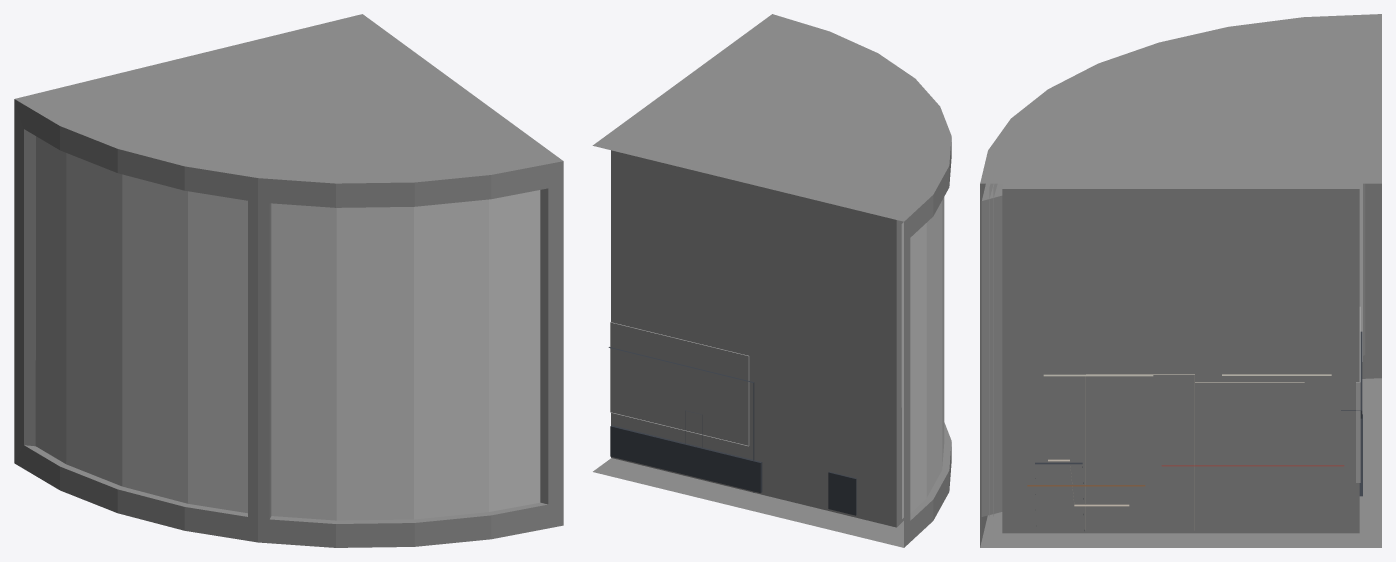
Rendered from Wall_11_Fake_Interior_Corner_Round.FBX.
The picture shows the model from 3 angles, left to right: view 1: azimuth 30°, elevation 25°; view 2: azimuth 150°, elevation 25°; view 3: azimuth 270°, elevation 25°; orthographic projection. The views are drawn at different scales.
Parts seen in each view (by area): view 1: Wall_11_Fake_Interior_Corner_Round; view 2: Wall_11_Fake_Interior_Corner_Round, Wall_11_Fake_Interior_B, Wall_11_Fake_Interior_C, Wall_11_Fake_Interior_A; view 3: Wall_11_Fake_Interior_Corner_Round, Wall_11_Fake_Interior_A, Wall_11_Fake_Interior_C, Wall_11_Fake_Interior_B.
Part boxes in pixels (x1,y1,x2,y2): Wall_11_Fake_Interior_Corner_Round: [14, 14, 563, 547]; Wall_11_Fake_Interior_Corner_Round: [592, 14, 951, 547]; Wall_11_Fake_Interior_B: [610, 425, 762, 493]; Wall_11_Fake_Interior_C: [608, 347, 856, 515]; Wall_11_Fake_Interior_A: [610, 322, 749, 446]; Wall_11_Fake_Interior_Corner_Round: [980, 14, 1381, 547]; Wall_11_Fake_Interior_A: [1048, 306, 1360, 506]; Wall_11_Fake_Interior_C: [1043, 331, 1362, 466]; Wall_11_Fake_Interior_B: [1035, 374, 1362, 530].
Size of what is drawn, in the model's own units: 180 by 180 by 180.
